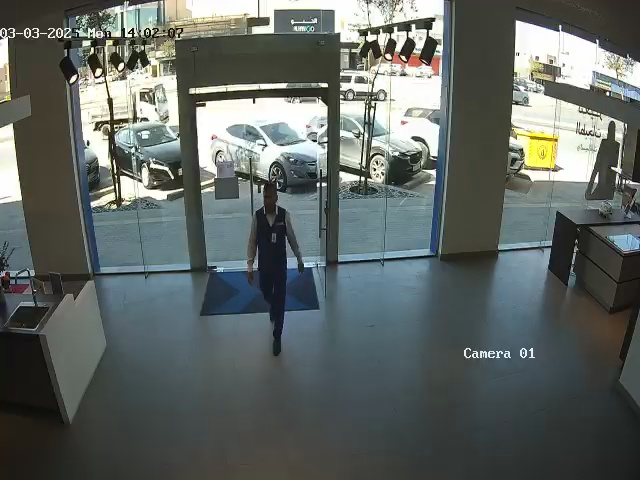employee: (246, 182, 305, 357)
